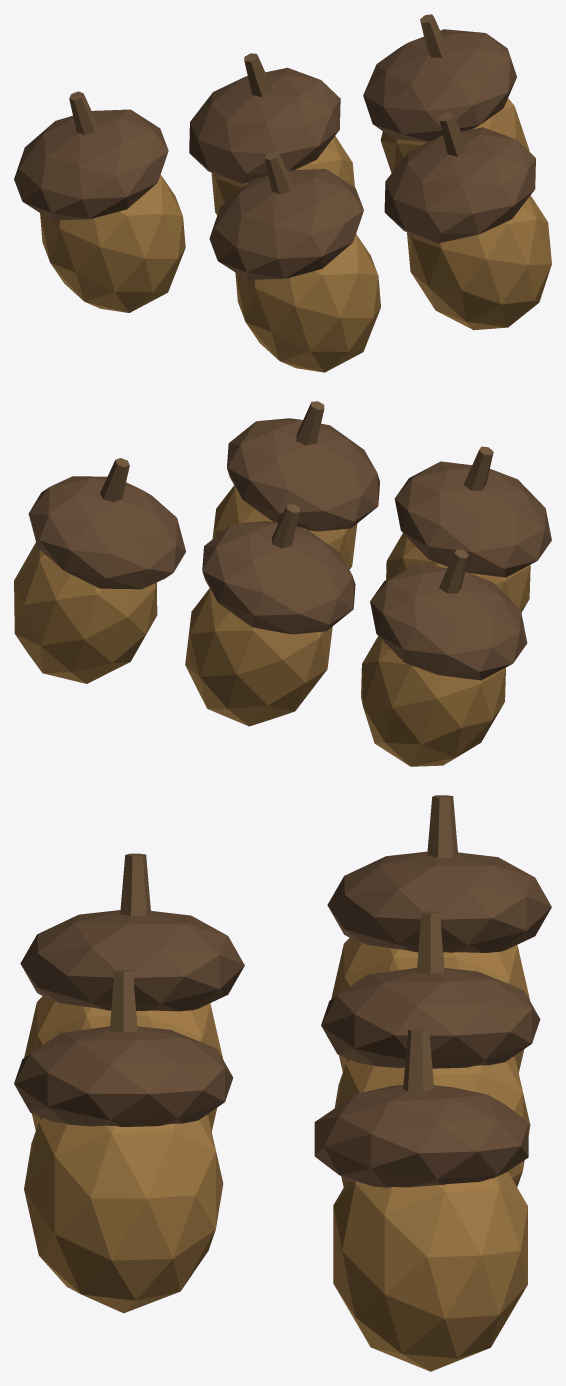
Rendered from pile-treeSeed-5.gltf.
3 views of the same model, one above another, from view 1: azimuth 30°, elevation 25°; view 2: azimuth 150°, elevation 25°; view 3: azimuth 270°, elevation 25° (orthographic). The views are drawn at different scales.
Visible parts, largest first — view 1: pile-treeSeed-5; view 2: pile-treeSeed-5; view 3: pile-treeSeed-5.
Part boxes in pixels (x1,y1,x2,y2): pile-treeSeed-5: (14, 14, 551, 372); pile-treeSeed-5: (14, 401, 551, 766); pile-treeSeed-5: (14, 795, 551, 1371).
Size of the model in its own units: 0.7737 by 0.3302 by 0.5257.
